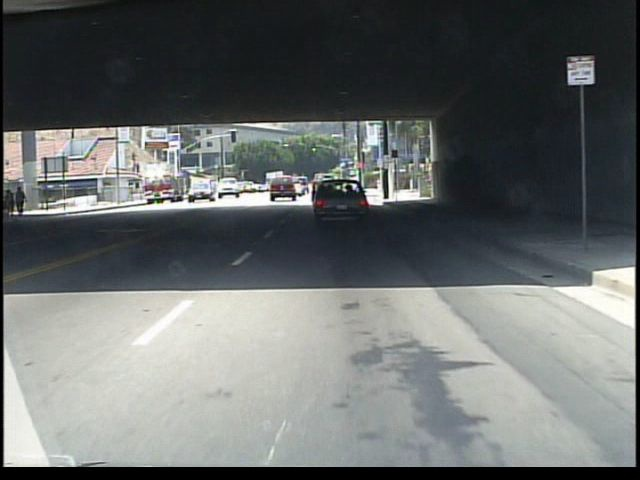person: (5, 191, 18, 219), (18, 188, 30, 218)
